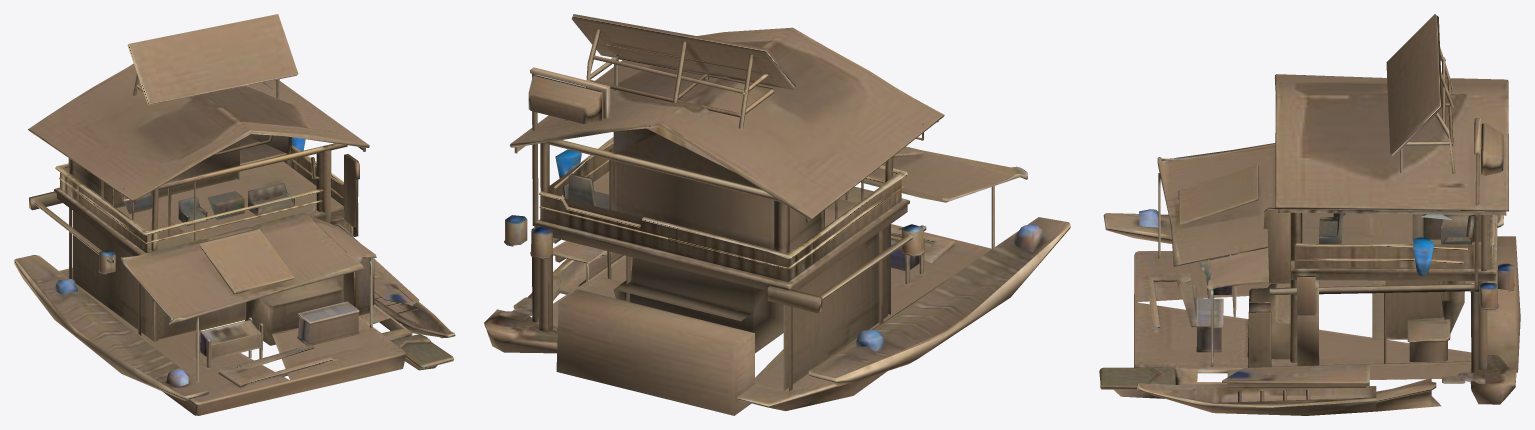
Rendered from floating_market.glb.
3 views of the same model, side by side, from view 1: azimuth 30°, elevation 25°; view 2: azimuth 150°, elevation 25°; view 3: azimuth 270°, elevation 25° (orthographic). The views are drawn at different scales.
Parts seen in each view (by area): view 1: Body; view 2: Body; view 3: Body.
Boxes of the visible parts, bbox=[...] form: Body: bbox=[14, 14, 455, 415]; Body: bbox=[484, 14, 1070, 415]; Body: bbox=[1099, 14, 1520, 415].
Size of the model in its own units: 14.88 by 12.04 by 15.71.
Materials: 2 (2 with a texture image).
